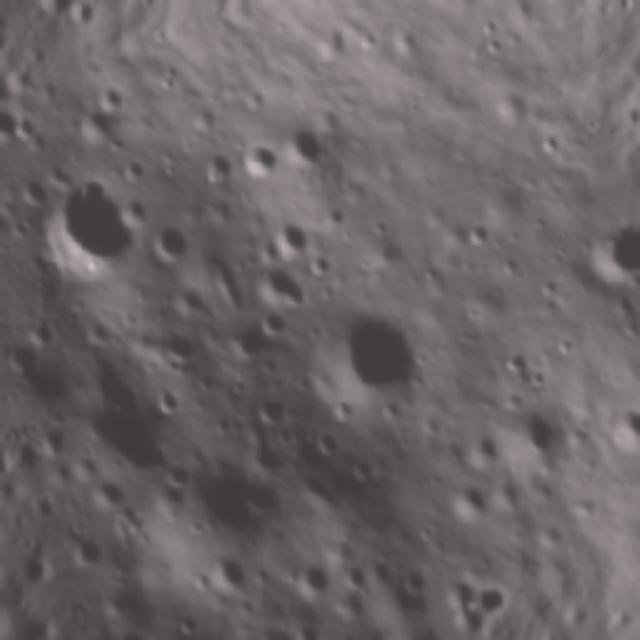crater: (302, 284, 446, 430), (23, 158, 152, 296), (229, 238, 316, 327), (490, 391, 572, 474), (205, 297, 292, 372), (196, 532, 264, 611), (271, 105, 337, 183), (142, 216, 203, 278), (288, 547, 346, 611), (229, 131, 285, 192), (442, 473, 498, 532), (595, 398, 640, 465), (250, 386, 298, 439), (194, 146, 241, 200), (306, 420, 354, 471), (86, 77, 132, 123), (333, 556, 378, 601), (146, 372, 188, 420), (396, 560, 438, 602), (96, 620, 179, 640), (458, 215, 498, 256), (0, 97, 29, 152), (169, 606, 203, 640), (286, 617, 326, 640)
